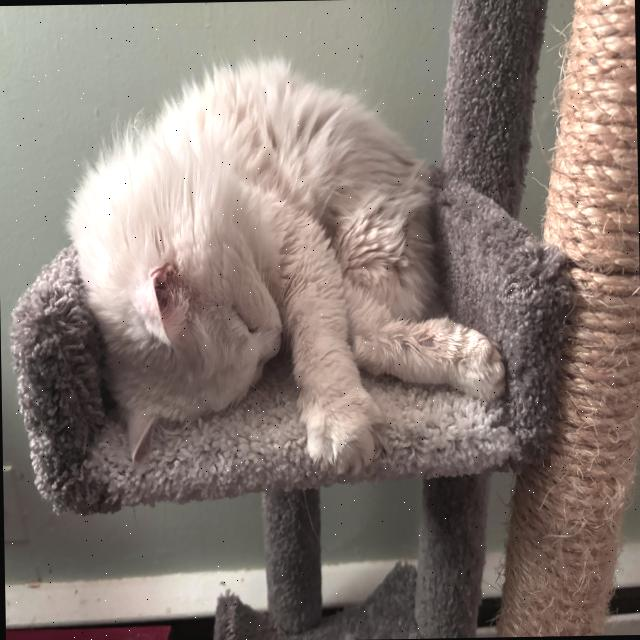persian_cat: (73, 166, 297, 481)
